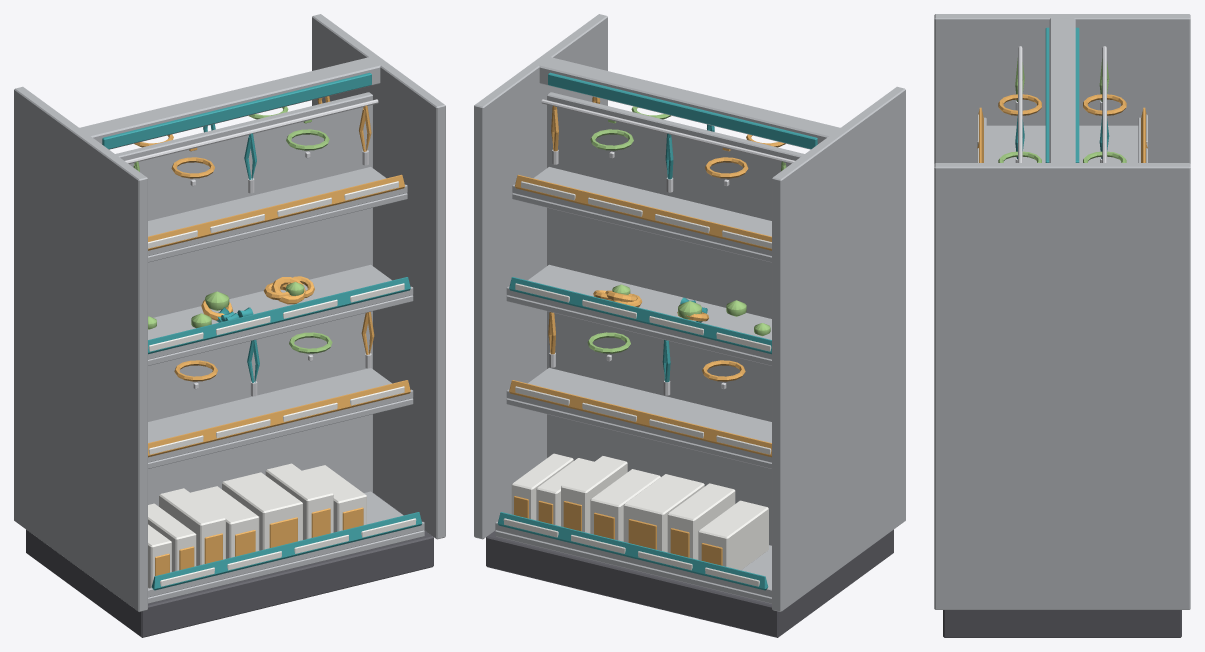
The model's file is pet-shop-and-grooming-salon-gondola-toy-and-accessory--6bd8b0f6__34570.glb.
The picture shows the model from 3 angles, left to right: view 1: azimuth 30°, elevation 25°; view 2: azimuth 150°, elevation 25°; view 3: azimuth 270°, elevation 25°; orthographic projection. The views are drawn at different scales.
Parts seen in each view (by area): view 1: gondola-toy-and-accessory-run; view 2: gondola-toy-and-accessory-run; view 3: gondola-toy-and-accessory-run.
Part boxes in pixels (x1=…): gondola-toy-and-accessory-run: x1=14, y1=14, x2=445, y2=637; gondola-toy-and-accessory-run: x1=474, y1=14, x2=905, y2=637; gondola-toy-and-accessory-run: x1=934, y1=14, x2=1190, y2=637.
Bounding box in the file's own units: 1.25 × 1.8 × 0.8801.
